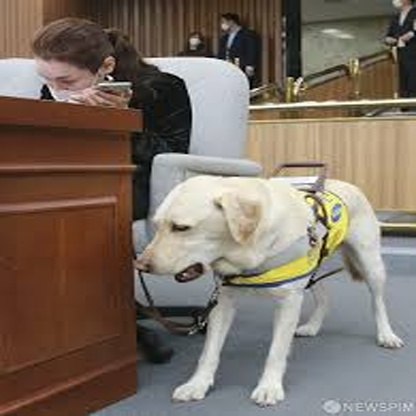guide-dog: (134, 166, 405, 408)
